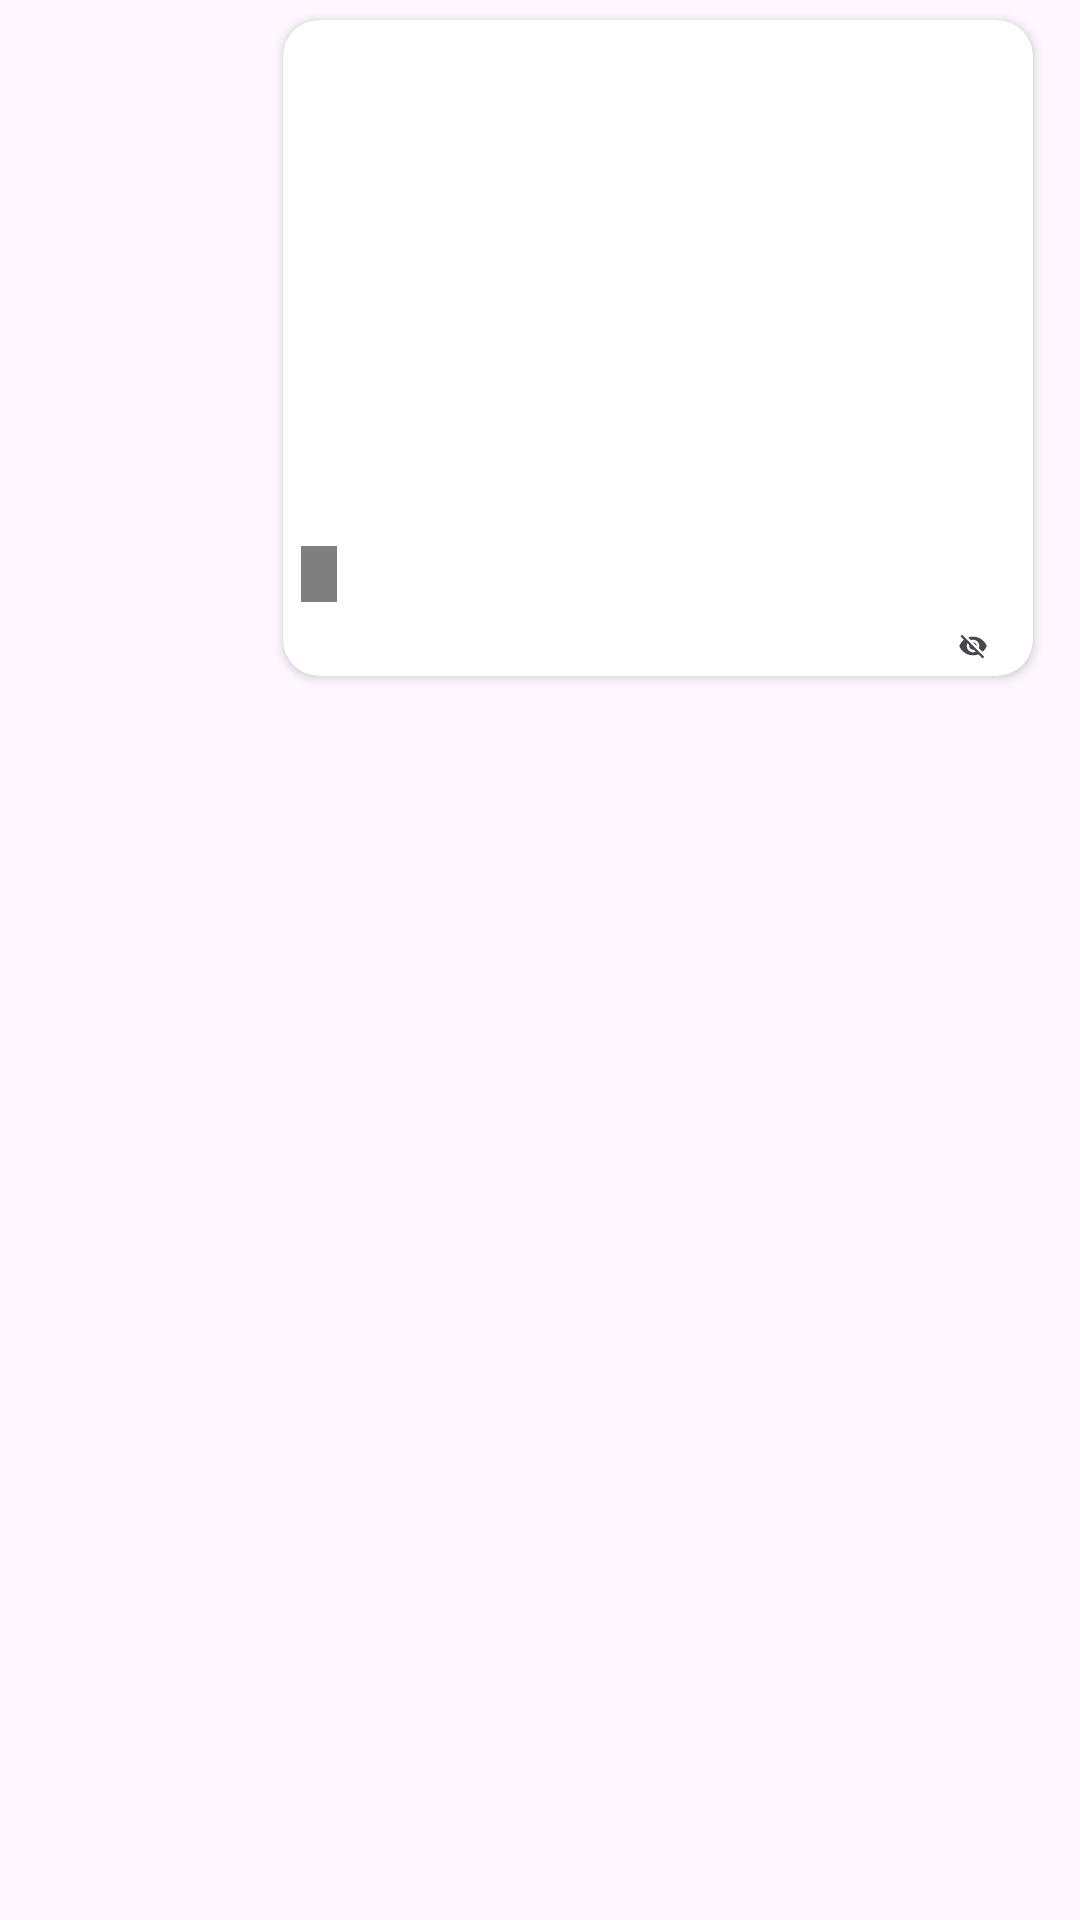

Screen size 1080x1920. Icon name, then its box in pixels as (x1, y1, x2, y2):
visibility off: (959, 635, 987, 659)
